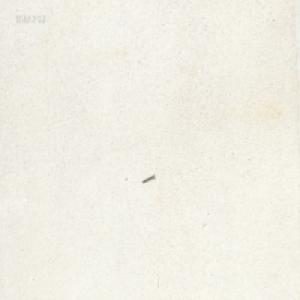Bolt: (141, 173, 154, 183)
